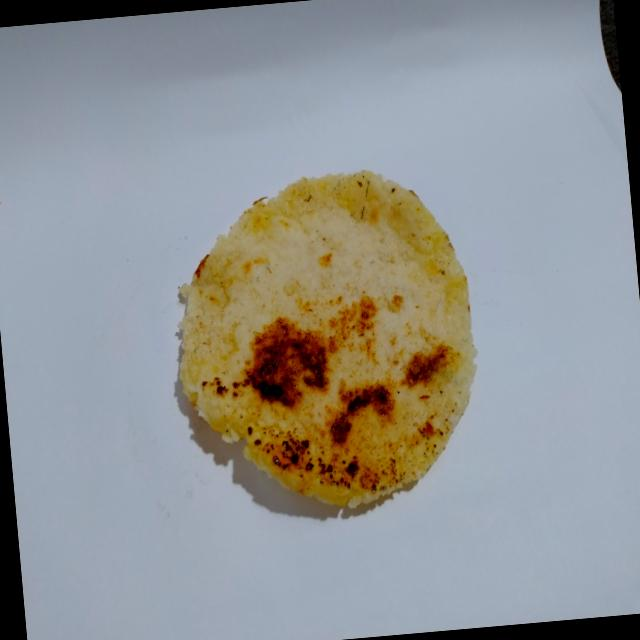Mbeju: (146, 151, 498, 538)
